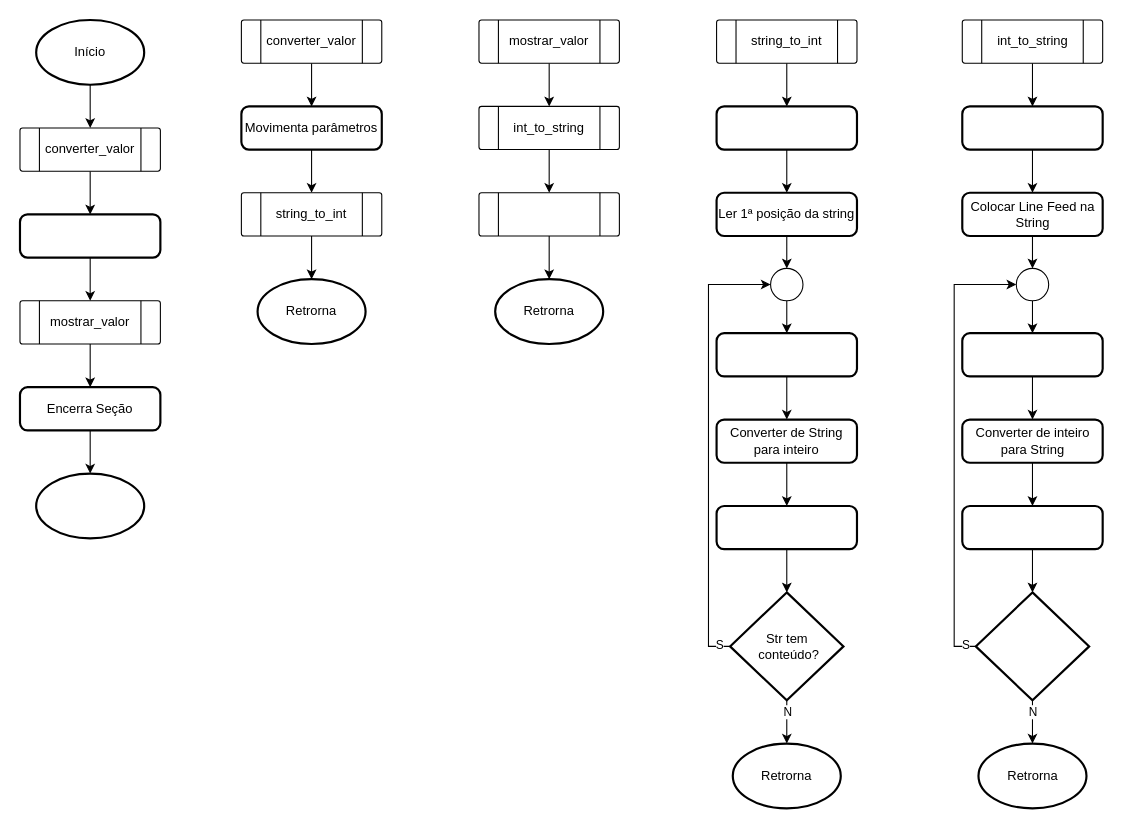
The diagram is 1122 pixels wide and 827 high, and some of its shapes have lost their labels. Each missing label, with the centre of its shape:
"Adiciona 2 a variável" belongs at (x=89, y=235).
"Adicionar na String" belongs at (x=1032, y=527).
"Fim" belongs at (x=90, y=505).
"Inteiro tem conteúdo?" belongs at (x=1032, y=646).
"Limpar variável" belongs at (x=1032, y=127).
"Multiplicar por 10" belongs at (x=786, y=527).
"Obter a posição" belongs at (x=786, y=354).
"Obter última posição" belongs at (x=1032, y=354).
"saidaResultado" belongs at (x=548, y=214).
"Zerar variável" belongs at (x=786, y=127).
